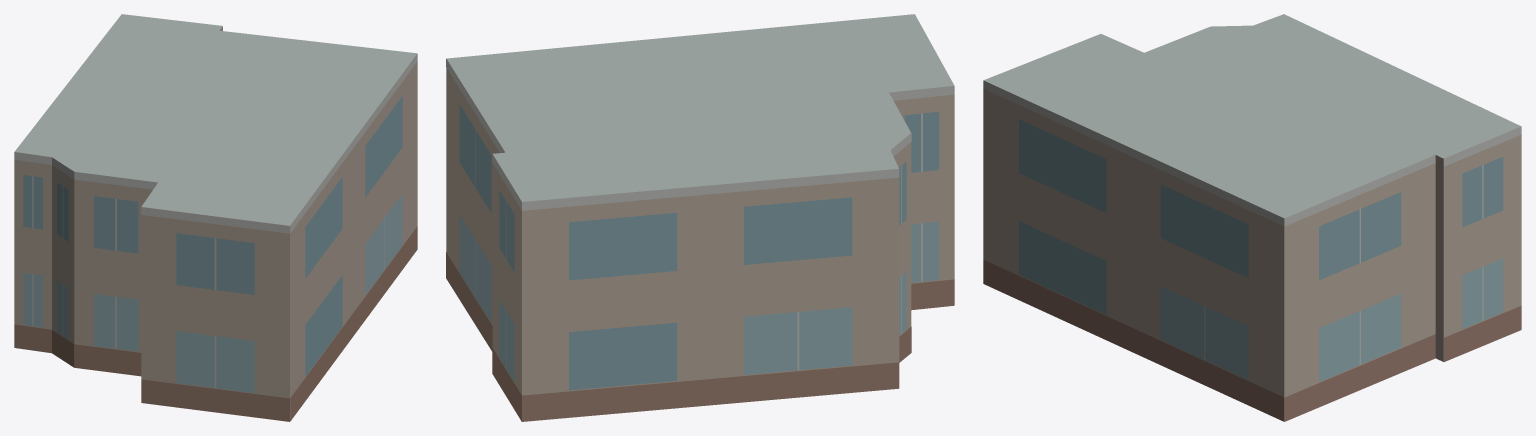
The model's file is survey-upis-32948224.glb.
3 views of the same model, side by side, from view 1: azimuth 30°, elevation 25°; view 2: azimuth 150°, elevation 25°; view 3: azimuth 270°, elevation 25° (orthographic). The views are drawn at different scales.
Parts seen in each view (by area): view 1: survey-upis-32948224.tmp; view 2: survey-upis-32948224.tmp; view 3: survey-upis-32948224.tmp.
Part boxes in pixels (x1=…): survey-upis-32948224.tmp: x1=14, y1=14, x2=417, y2=421; survey-upis-32948224.tmp: x1=446, y1=14, x2=954, y2=421; survey-upis-32948224.tmp: x1=983, y1=14, x2=1521, y2=421.
Size of the model in its own units: 13.15 by 6.1 by 14.63.
